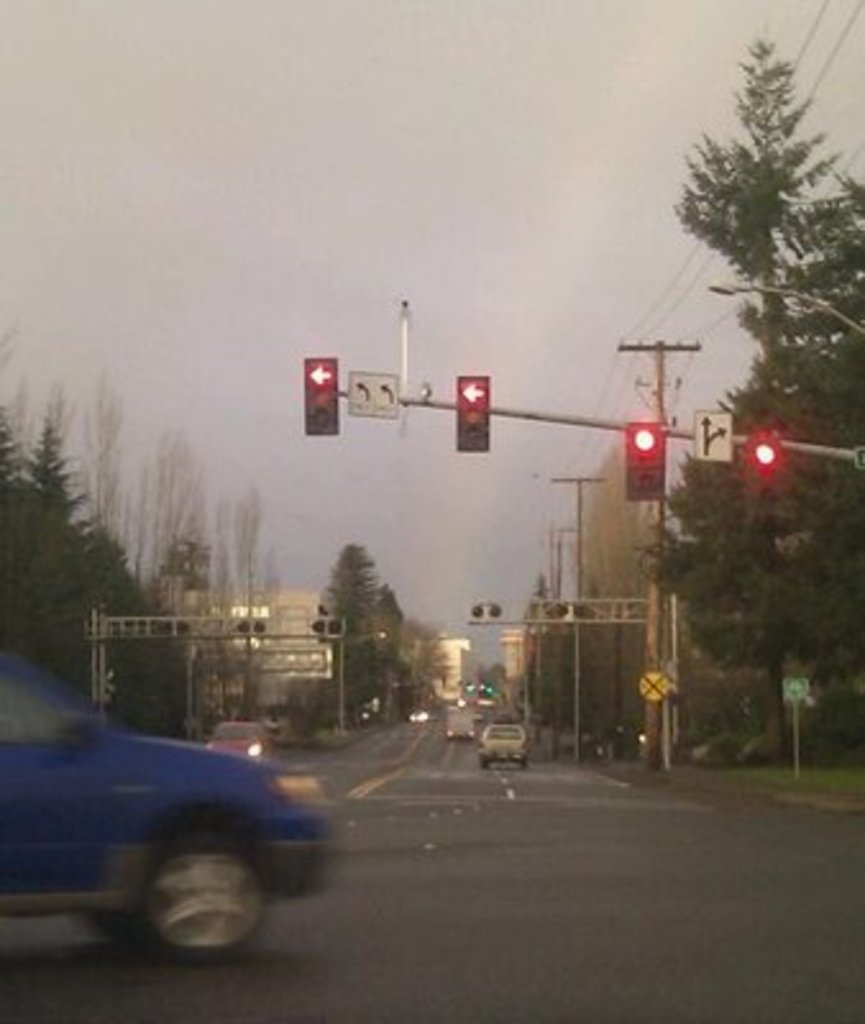red_light: (628, 423, 662, 501), (753, 436, 780, 500)
